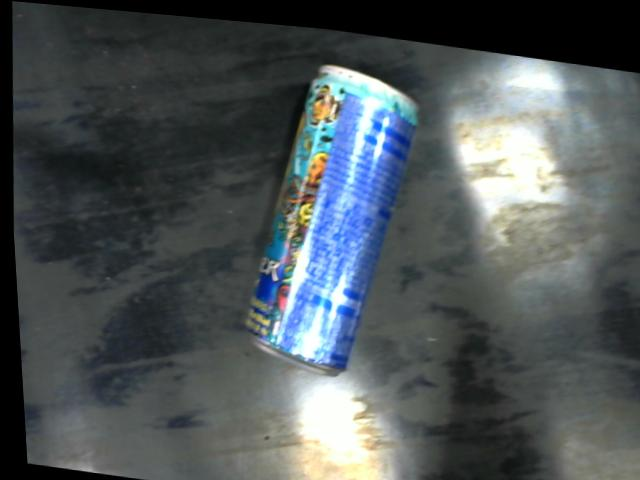can: (235, 54, 423, 375)
